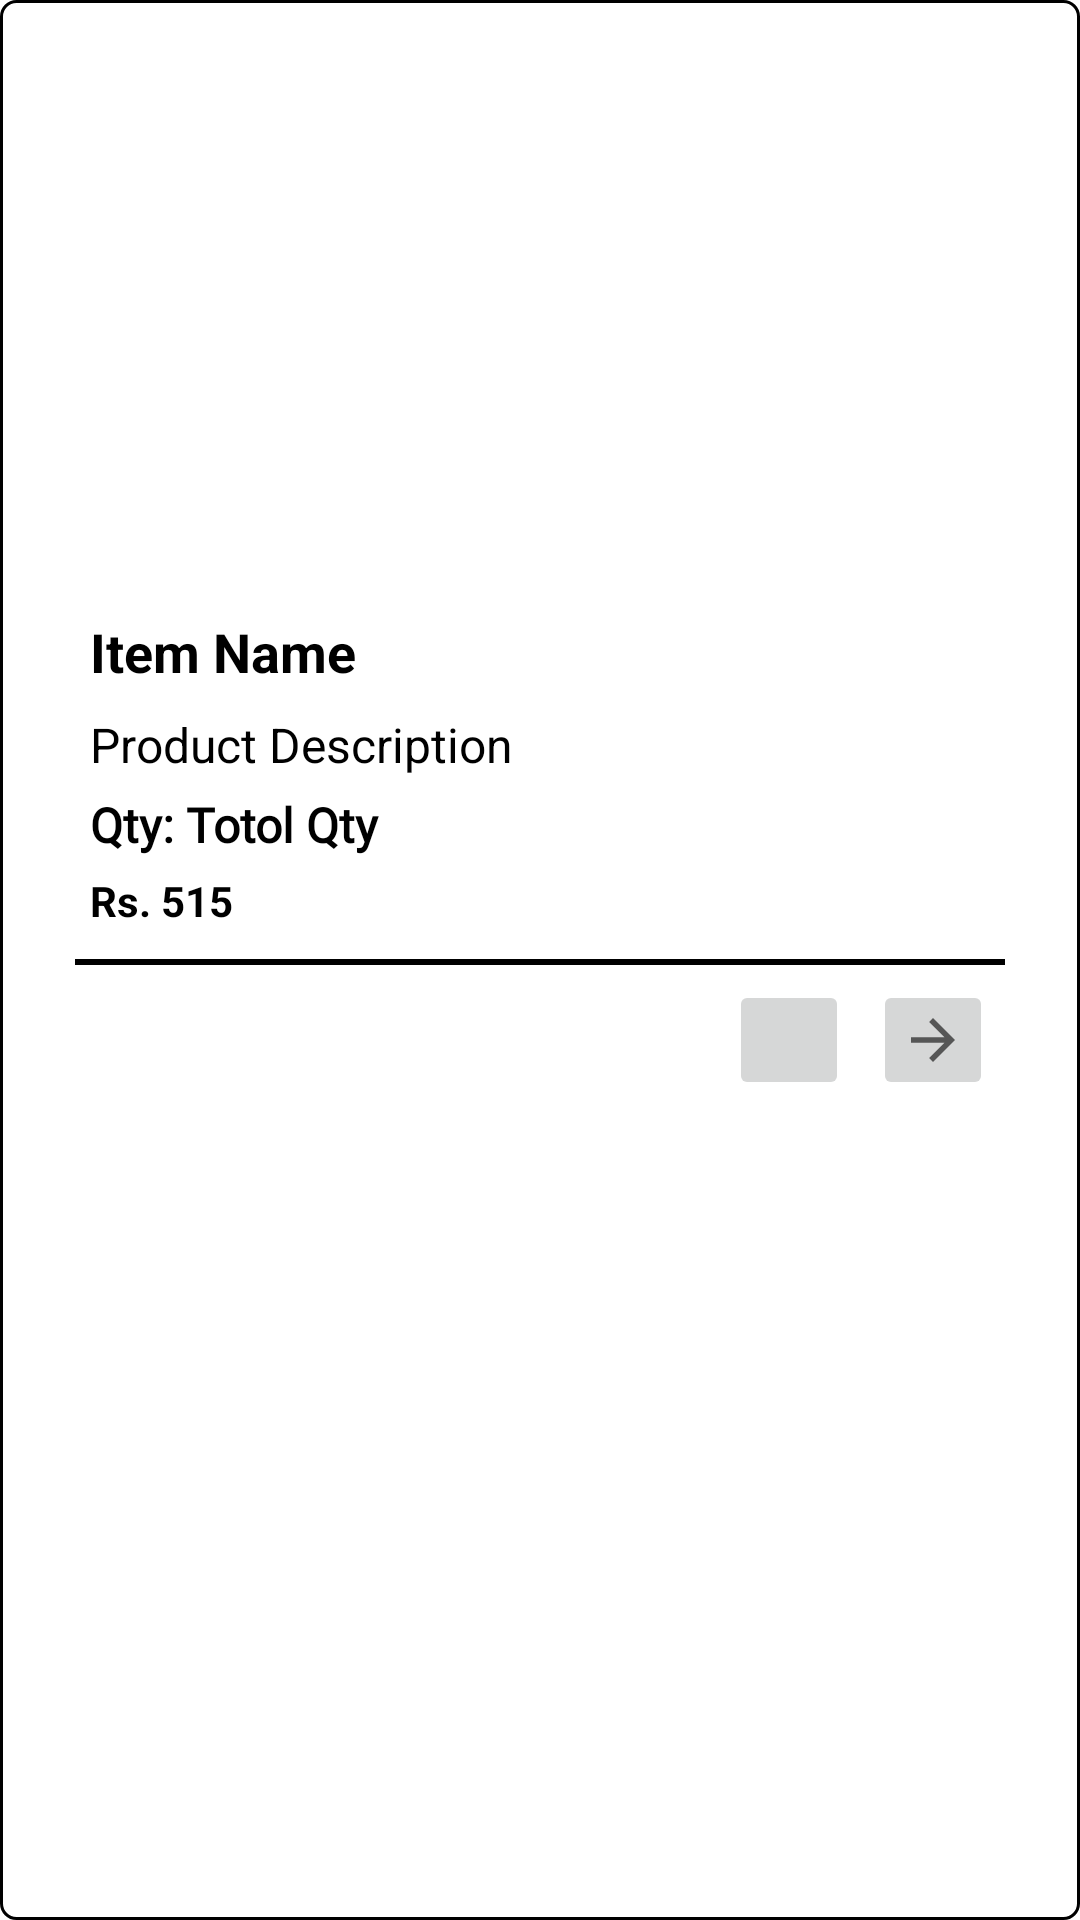

Screen size 1080w x 1920h. Icon name, then its box in pixels as rect(x1, y1, x2, y2):
arrow forward: rect(885, 998, 981, 1082)
